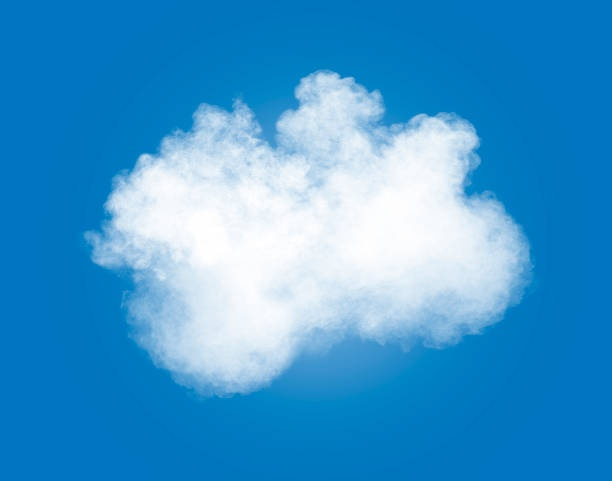smoke: (99, 69, 534, 396)
